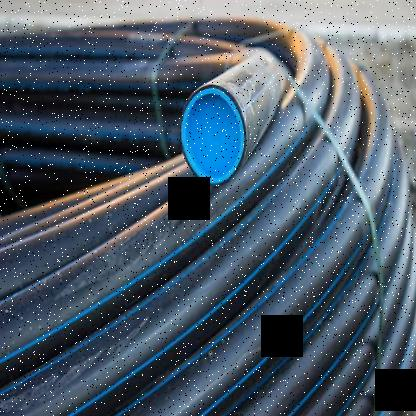pipe: (179, 85, 246, 187)
